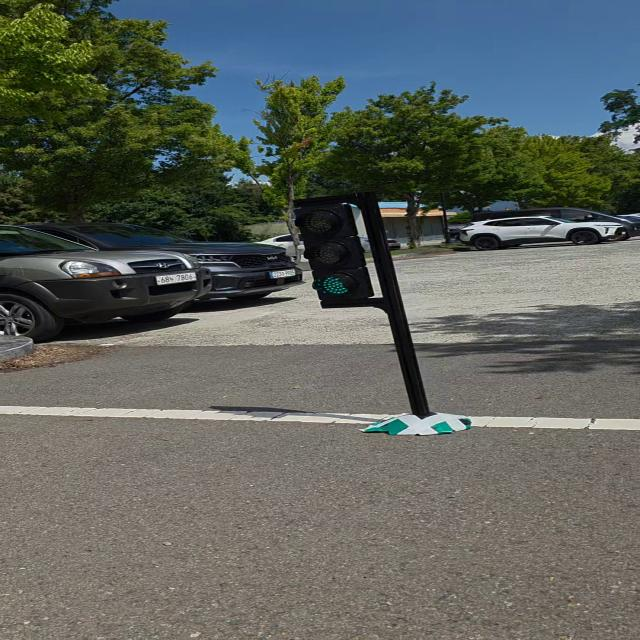green: (289, 198, 376, 306)
